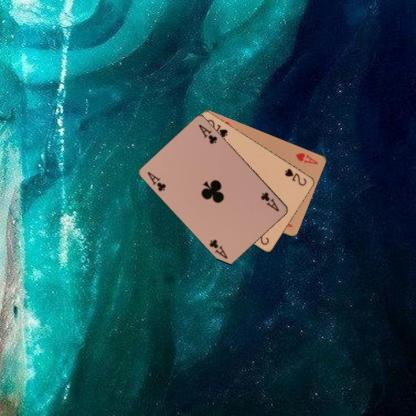2s: (282, 166, 308, 187)
Ac: (145, 169, 168, 192), (258, 190, 281, 212)
Ah: (293, 150, 319, 166)
